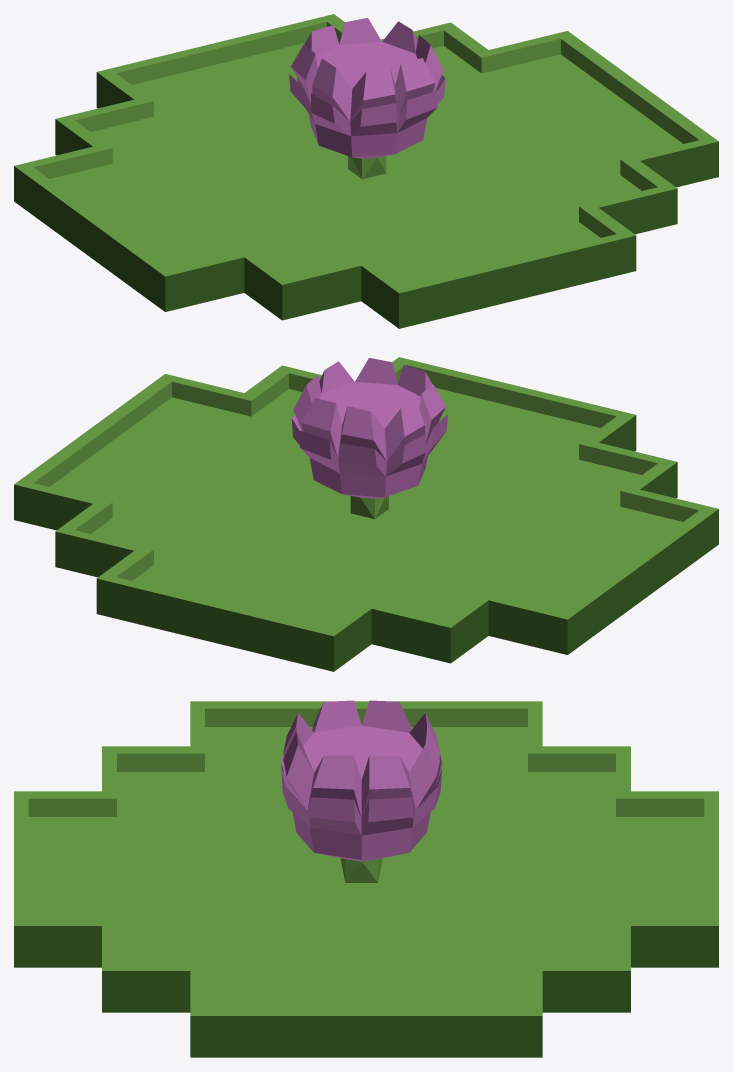
Rendered from LilypadFlower.fbx.
3 views of the same model, one above another, from view 1: azimuth 30°, elevation 25°; view 2: azimuth 150°, elevation 25°; view 3: azimuth 270°, elevation 25° (orthographic). The views are drawn at different scales.
Parts seen in each view (by area): view 1: LilyPadFullFlowerG; view 2: LilyPadFullFlowerG; view 3: LilyPadFullFlowerG.
Part boxes in pixels (x1,y1,x2,y2): LilyPadFullFlowerG: [14, 14, 718, 328]; LilyPadFullFlowerG: [14, 357, 718, 671]; LilyPadFullFlowerG: [14, 700, 718, 1057].
Size of the model in its own units: 280 by 71.02 by 265.
